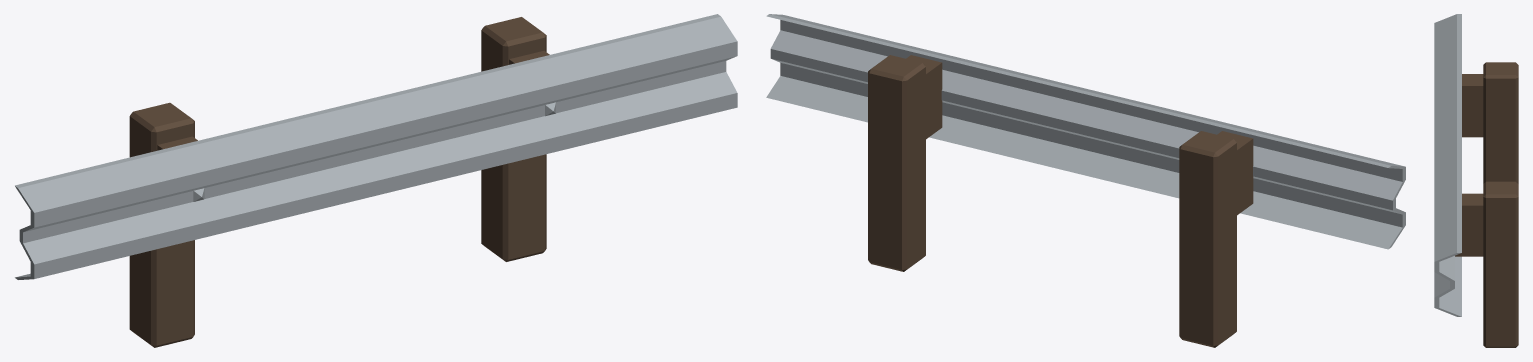
The model's file is World_Guardrail.fbx.
3 renders of one model, left to right at view 1: azimuth 30°, elevation 25°; view 2: azimuth 150°, elevation 25°; view 3: azimuth 270°, elevation 25°, orthographic. The views are drawn at different scales.
Visible parts, largest first — view 1: Beam, Posts; view 2: Beam, Posts; view 3: Posts, Beam.
Part boxes in pixels (x1,y1,x2,y2): Beam: (15, 14, 737, 279); Posts: (129, 17, 549, 347); Beam: (766, 14, 1405, 249); Posts: (868, 55, 1253, 347); Posts: (1455, 62, 1518, 347); Beam: (1434, 14, 1461, 316).
Size of the model in its own units: 800 by 240 by 119.
